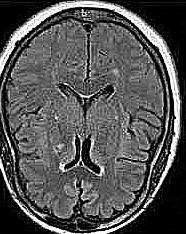Normal_Brain: (1, 6, 181, 234)
